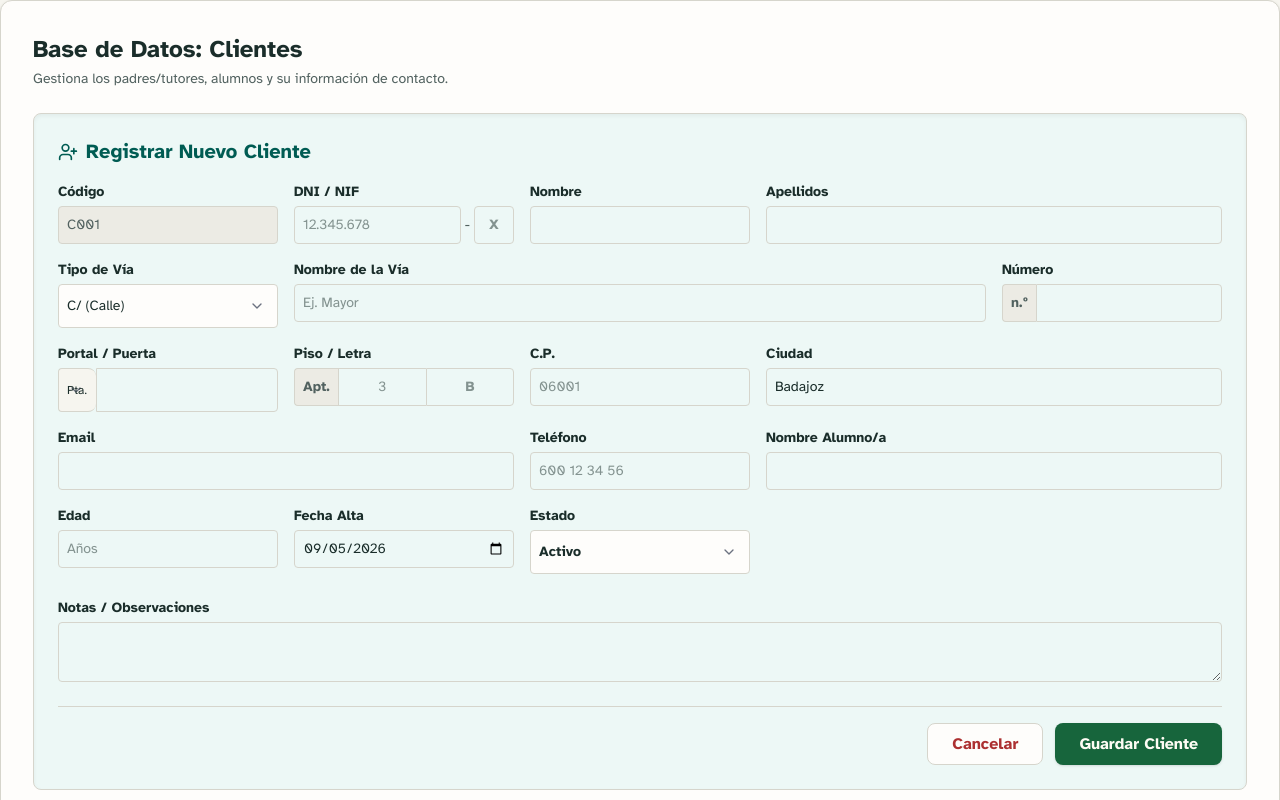
StudentsManager form validation › warns when first and last name are missing
Click the button "Guardar Cliente".
click(1139, 744)  # box top-left (1055, 723), bottom-right (1222, 765)
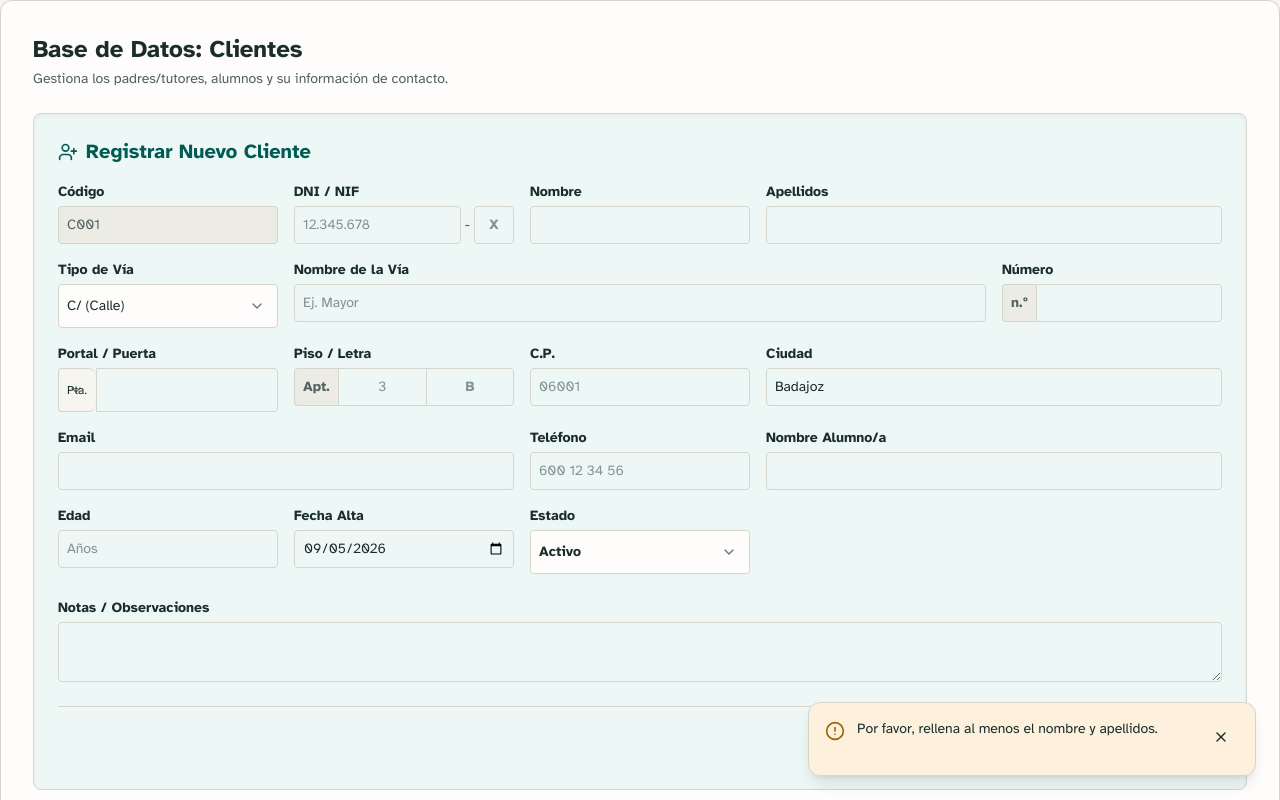
Expected: the text "Por favor, rellena al menos el nombre y apellidos." is shown, top-left (857, 719), bottom-right (1187, 739)
